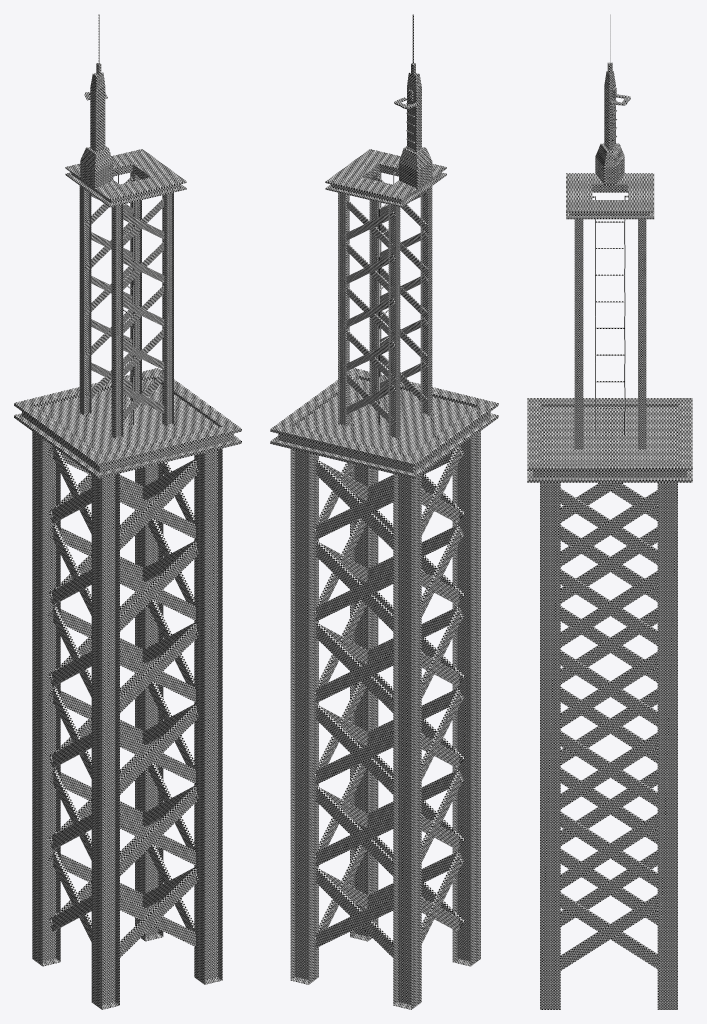
Rendered from tour.FBX.
3 renders of one model, left to right at view 1: azimuth 30°, elevation 25°; view 2: azimuth 150°, elevation 25°; view 3: azimuth 270°, elevation 25°, orthographic.
Visible parts, largest first — view 1: Box001, Box002, Box023, Box004, Box005, Box024, Box025, Box018, Box027, Box003, Box010, Box006 (+4 smaller); view 2: Box004, Box003, Box018, Box001, Box005, Box024, Box023, Box025, Box027, Box002, Box010, Box007 (+4 smaller); view 3: Box025, Box005, Box024, Box002, Box003, Box010, Box009, antenne, Box008, Cylinder011.
Part boxes in pixels (left/top/right/bottom): Box001: left=91, top=473, right=119, bottom=1009; Box002: left=194, top=448, right=222, bottom=984; Box023: left=120, top=460, right=196, bottom=957; Box004: left=32, top=431, right=60, bottom=966; Box005: left=14, top=367, right=241, bottom=478; Box024: left=49, top=446, right=91, bottom=941; Box025: left=142, top=459, right=198, bottom=931; Box018: left=47, top=446, right=143, bottom=930; Box027: left=84, top=176, right=164, bottom=419; Box003: left=135, top=464, right=163, bottom=941; Box010: left=65, top=149, right=186, bottom=207; Box006: left=111, top=204, right=123, bottom=438; Box004: left=393, top=474, right=421, bottom=1009; Box003: left=290, top=449, right=318, bottom=984; Box018: left=315, top=460, right=393, bottom=957; Box001: left=452, top=431, right=480, bottom=966; Box005: left=270, top=368, right=498, bottom=478; Box024: left=421, top=446, right=463, bottom=943; Box023: left=368, top=450, right=464, bottom=927; Box025: left=314, top=461, right=367, bottom=942; Box027: left=342, top=177, right=427, bottom=426; Box002: left=350, top=464, right=378, bottom=941; Box010: left=325, top=149, right=446, bottom=207; Box007: left=388, top=204, right=400, bottom=439; Box025: left=560, top=488, right=657, bottom=970; Box005: left=527, top=398, right=692, bottom=482; Box024: left=560, top=482, right=657, bottom=926; Box002: left=540, top=482, right=560, bottom=1009; Box003: left=657, top=482, right=677, bottom=1009; Box010: left=566, top=173, right=654, bottom=219; Box009: left=574, top=219, right=583, bottom=449; antenne: left=595, top=15, right=630, bottom=184; Box008: left=638, top=219, right=646, bottom=449; Cylinder011: left=592, top=195, right=627, bottom=434.
Bounding box in the file's own units: 221 × 1410 × 222.
12 materials, 12 textured.
